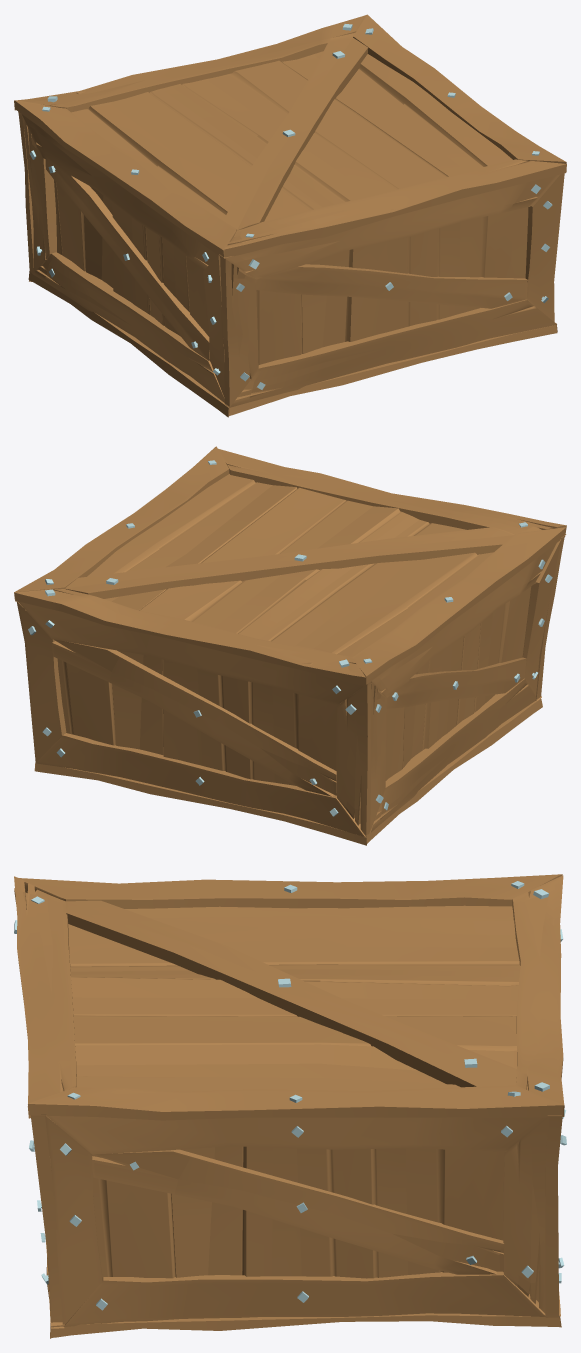
3 views of the same model, one above another, from view 1: azimuth 30°, elevation 25°; view 2: azimuth 150°, elevation 25°; view 3: azimuth 270°, elevation 25° (orthographic). The views are drawn at different scales.
Parts seen in each view (by area): view 1: Box_UI; view 2: Box_UI; view 3: Box_UI.
Part boxes in pixels (x1,y1,x2,y2): Box_UI: [14, 14, 566, 417]; Box_UI: [14, 446, 566, 845]; Box_UI: [14, 874, 566, 1338].
Size of the model in its own units: 4.31 by 2.13 by 4.38.
